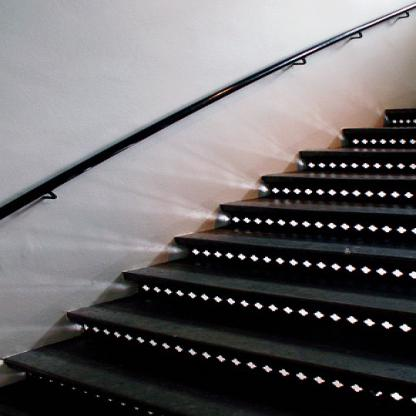stairs: (198, 215, 416, 416)
